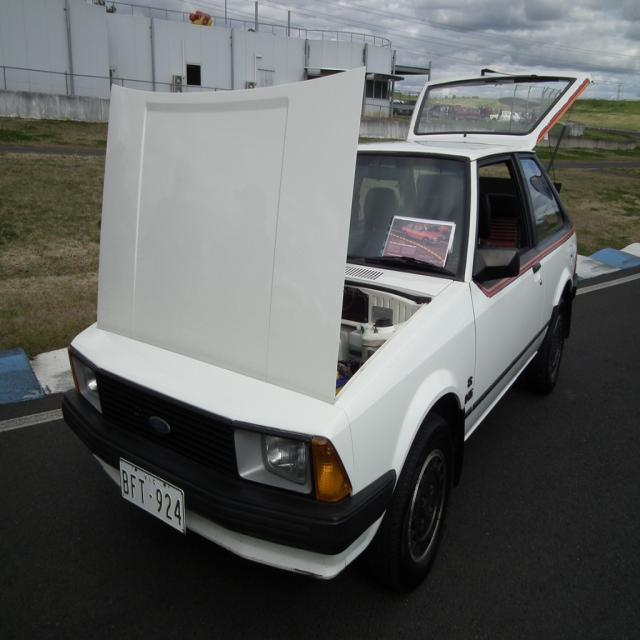car: (61, 64, 590, 583)
